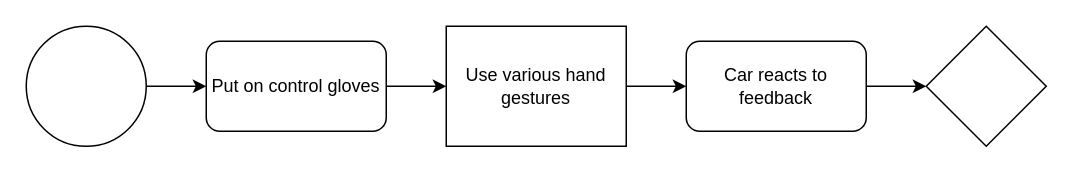
Image size: 1073x173. Some labels were removed from this diagram. Each missing label, with the centre of its shape:
"RC car controlled" belongs at [985,85].
"User" belongs at [85,85].
